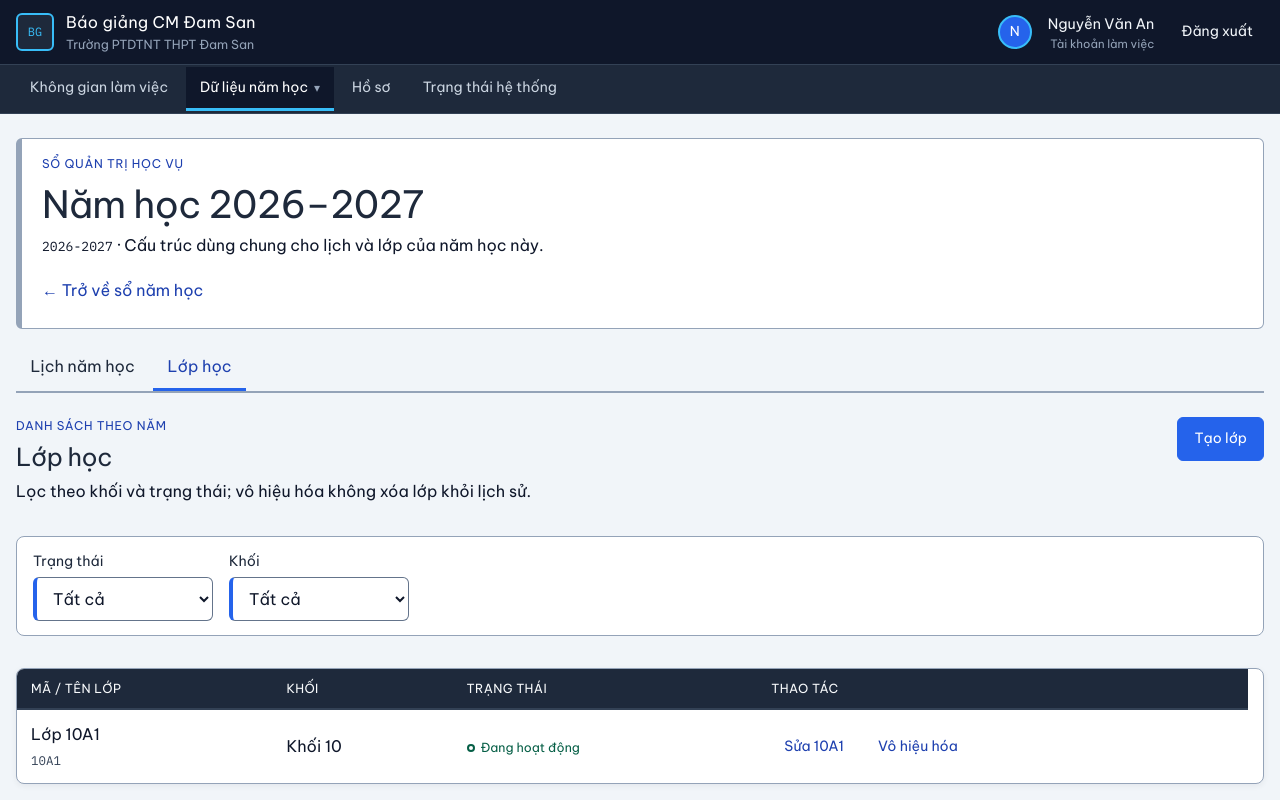
Test: academic structure pages › keeps class records year-scoped and exposes status confirmation without delete
expect the text "Lớp 10A1" is shown: met, box [31, 724, 100, 744]
Click the button "Vô hiệu hóa": (918,746) [865, 724, 971, 768]
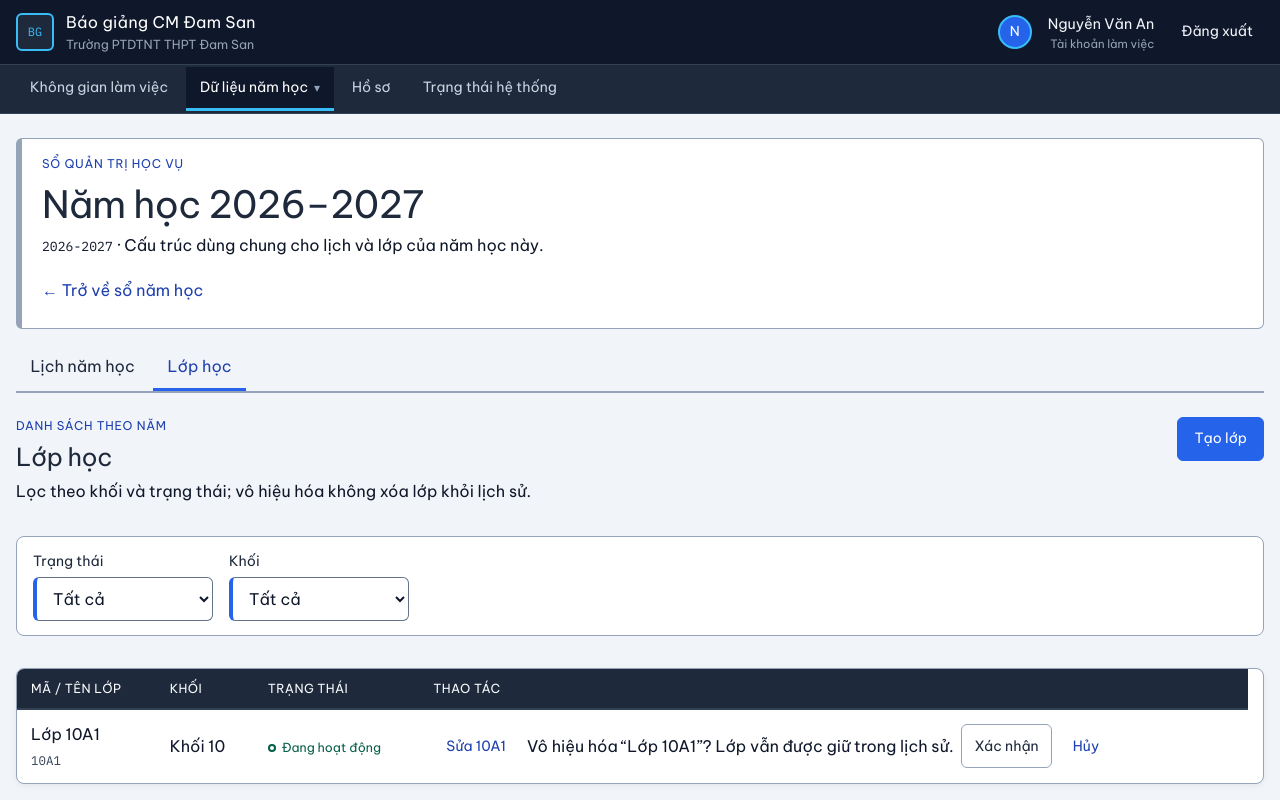
expect the text "Vô hiệu hóa “Lớp 10A1”? Lớp vẫn được giữ trong lịch sử." is shown: met, box [527, 734, 954, 759]
